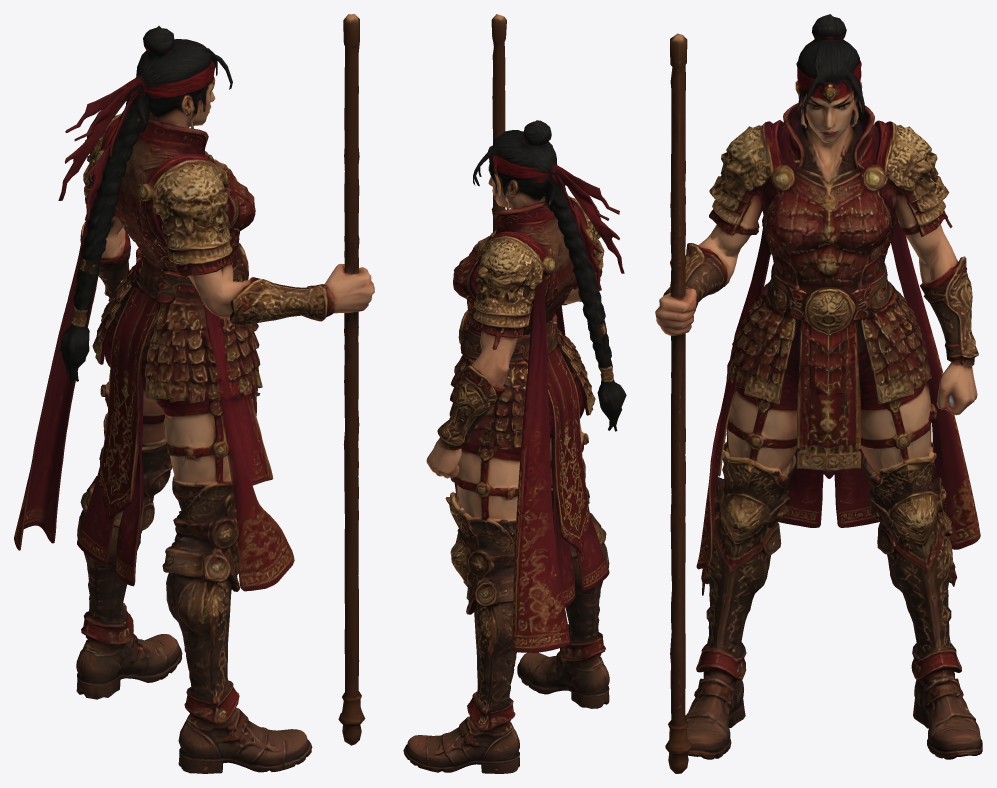
File: vanguardalt-EmberKhan-tripo.glb
3 renders of one model, left to right at view 1: azimuth 30°, elevation 25°; view 2: azimuth 150°, elevation 25°; view 3: azimuth 270°, elevation 25°, orthographic. The views are drawn at different scales.
Parts seen in each view (by area): view 1: tripo_node_8fa00358-bee7-40ce-a707-13b1d19788d0; view 2: tripo_node_8fa00358-bee7-40ce-a707-13b1d19788d0; view 3: tripo_node_8fa00358-bee7-40ce-a707-13b1d19788d0.
Boxes of the visible parts, x1,y1,x2,y2 form: tripo_node_8fa00358-bee7-40ce-a707-13b1d19788d0: (14,14,374,773); tripo_node_8fa00358-bee7-40ce-a707-13b1d19788d0: (403,14,626,773); tripo_node_8fa00358-bee7-40ce-a707-13b1d19788d0: (655,14,982,773).
Size of the model in its own units: 0.3294 by 1 by 0.396.
1 material, 1 textured.
